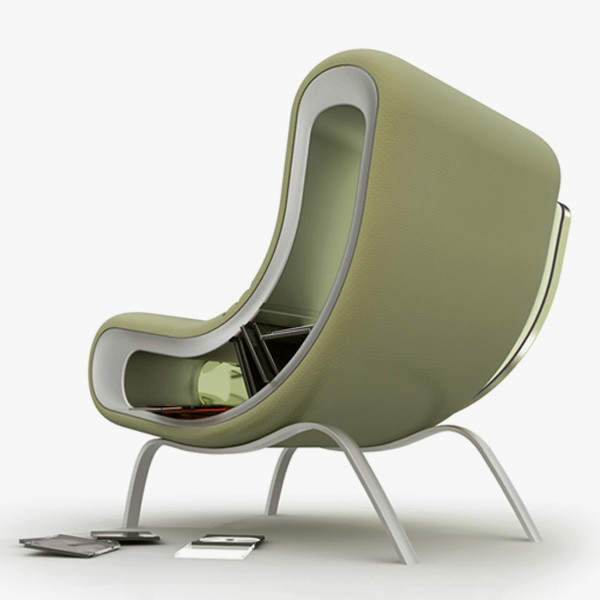chairs: (86, 49, 575, 569)
